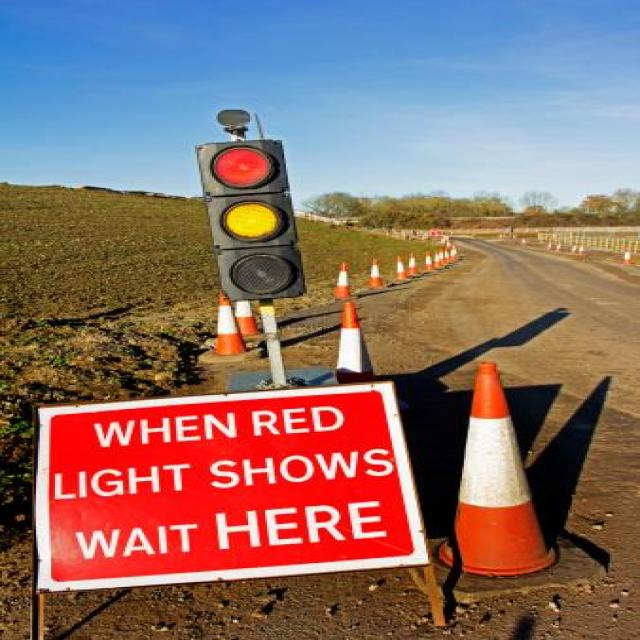Cone: (413, 363, 613, 596), (197, 289, 267, 360), (331, 300, 379, 386), (331, 262, 356, 300), (364, 257, 388, 288), (396, 254, 411, 285), (420, 250, 438, 274), (623, 246, 629, 263)
